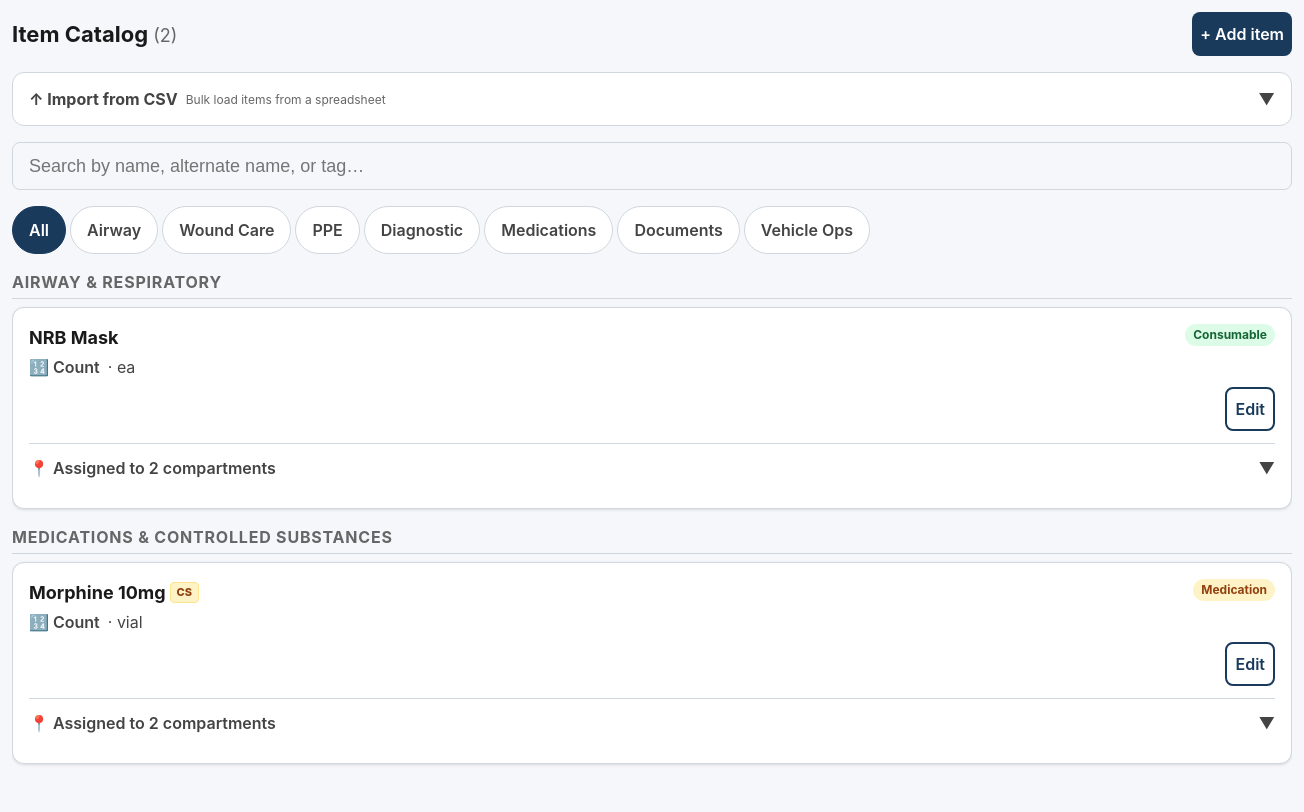
Scenario: ItemCatalog — cabinet group chip filters › chip filter hides items outside the selected cabinet
The image size is (1304, 812).
Click the button "Airway": (114, 230) 70,206 -> 158,254
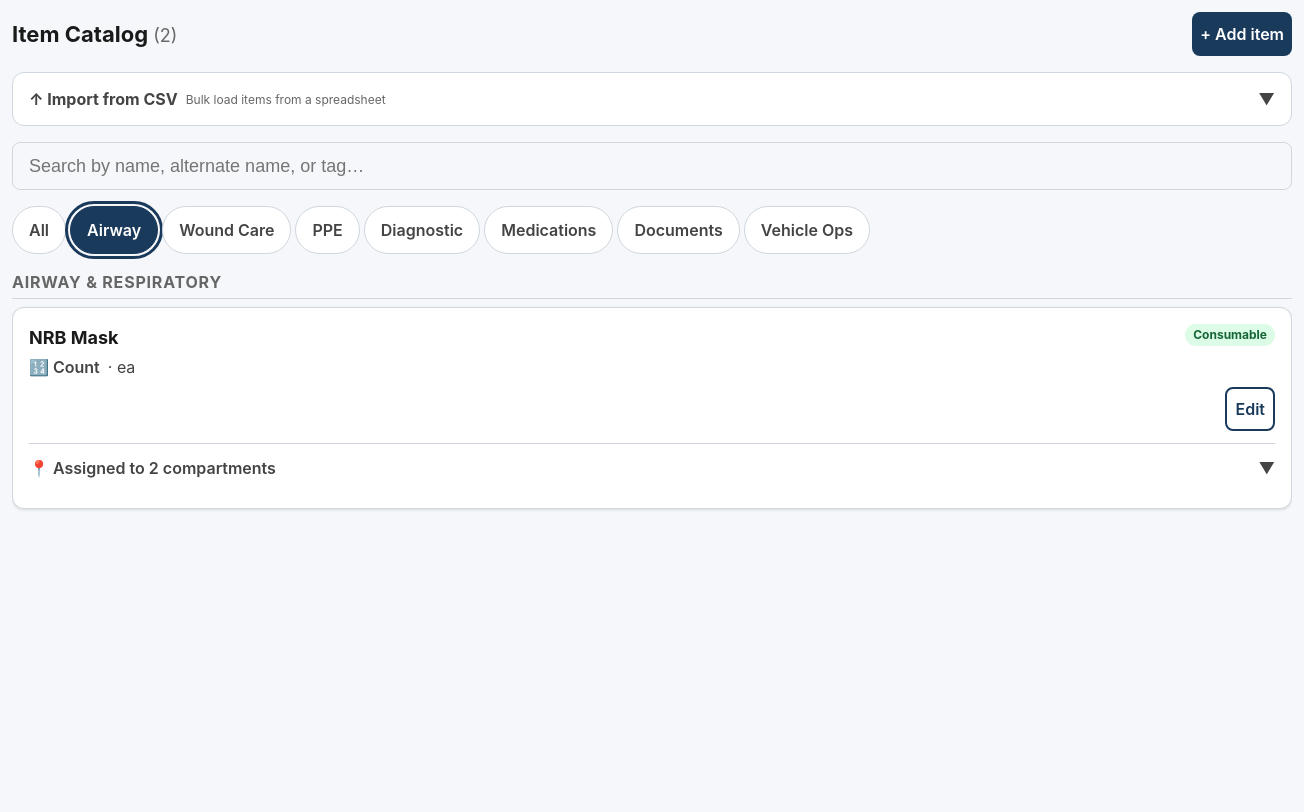
Expected: the text "NRB Mask" is shown, 29,324 -> 118,351
Now the text "Morphine 10mg" is gone
